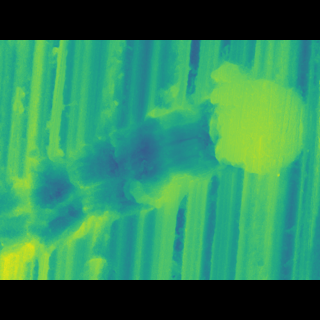Loch: (0, 82, 317, 244)
